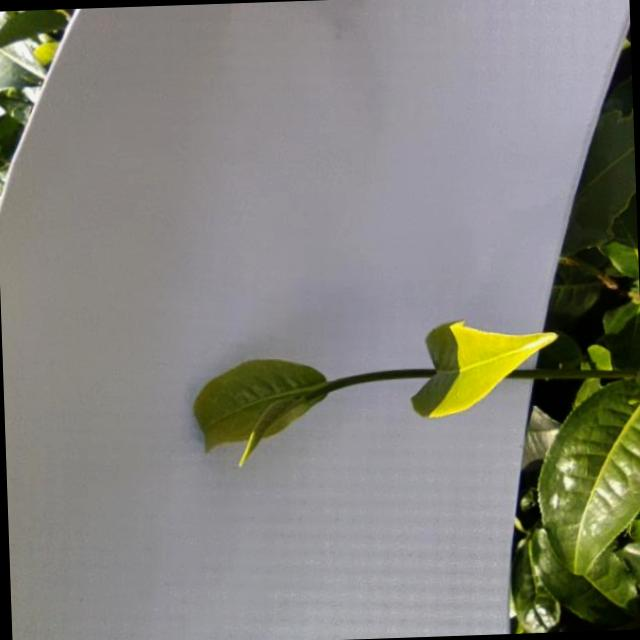Stem: (329, 381, 338, 389)
